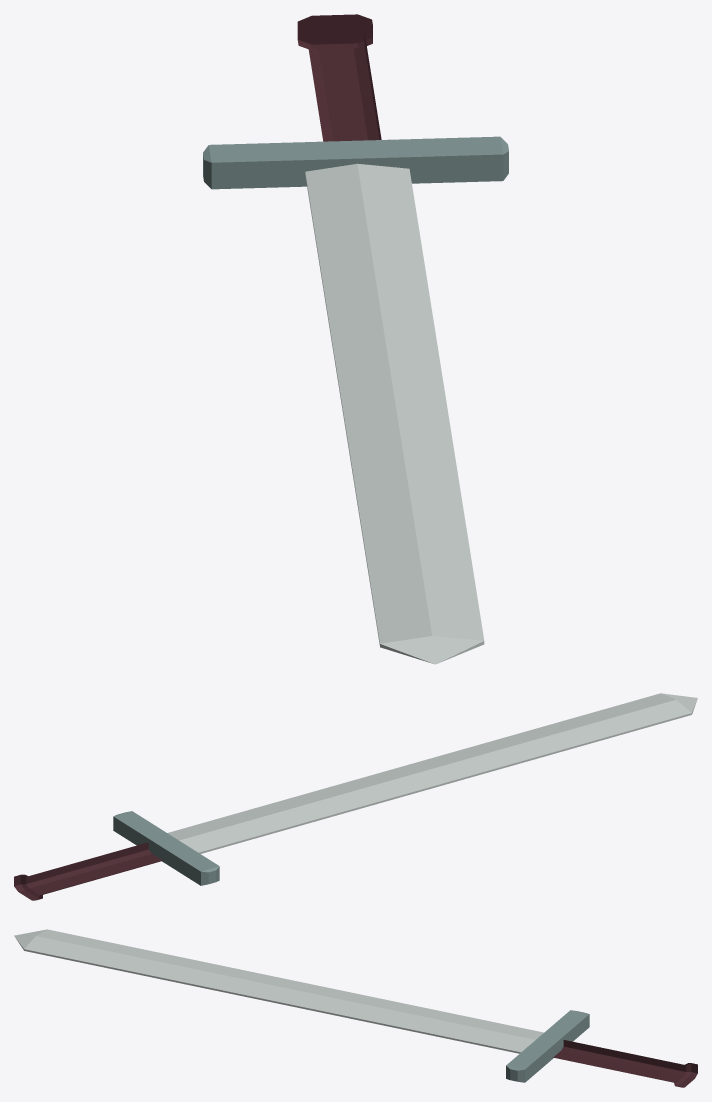
The model's file is sword.glb.
3 views of the same model, one above another, from view 1: azimuth 30°, elevation 25°; view 2: azimuth 150°, elevation 25°; view 3: azimuth 270°, elevation 25° (orthographic). The views are drawn at different scales.
Visible parts, largest first — view 1: lame, garde, manche; view 2: lame, manche, garde; view 3: lame, manche, garde.
Part boxes in pixels (x1,y1,x2,y2): lame: [305, 163, 484, 664]; garde: [203, 136, 508, 189]; manche: [297, 14, 381, 141]; lame: [167, 693, 697, 853]; manche: [14, 842, 163, 900]; garde: [113, 811, 219, 885]; lame: [14, 929, 543, 1053]; manche: [552, 1040, 697, 1087]; garde: [506, 1010, 589, 1082].
Size of the model in its own units: 0.9733 by 0.043 by 1.84.
